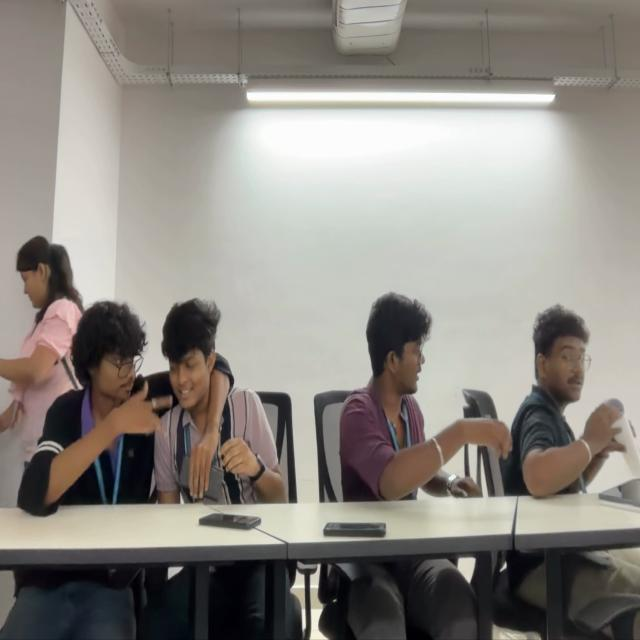Isolated: (337, 292, 511, 496), (521, 302, 636, 485)
socializing: (0, 234, 287, 504)
